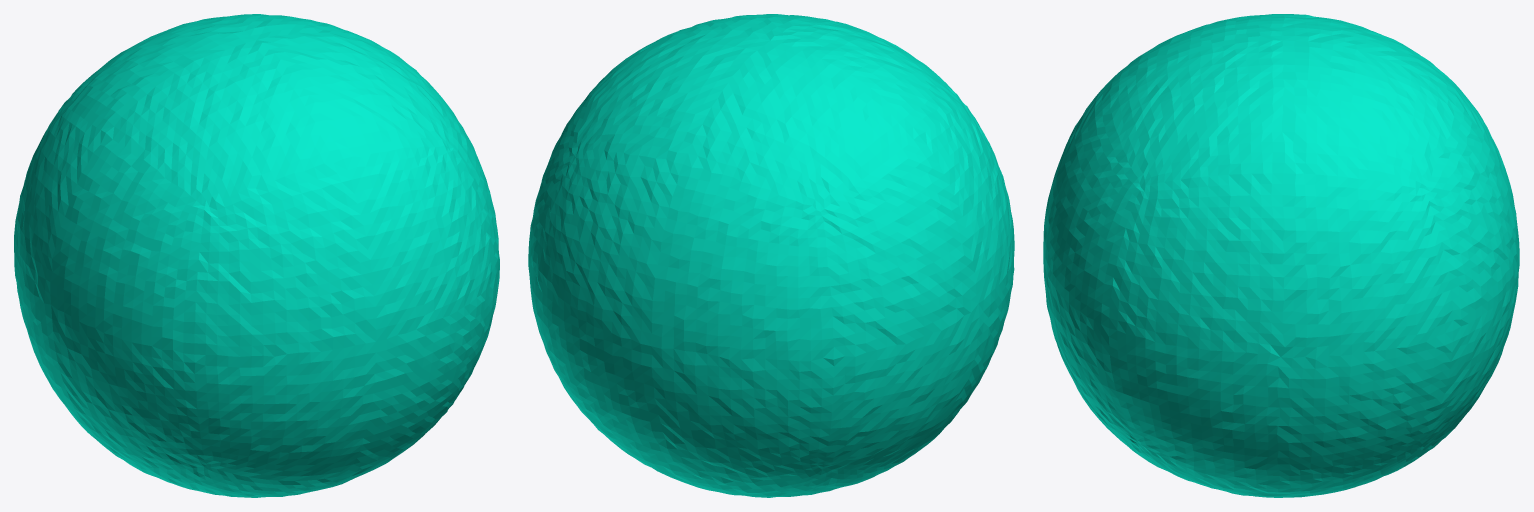
File: Sea04.fbx
3 renders of one model, left to right at view 1: azimuth 30°, elevation 25°; view 2: azimuth 150°, elevation 25°; view 3: azimuth 270°, elevation 25°, orthographic.
Visible parts, largest first — view 1: pCube1; view 2: pCube1; view 3: pCube1.
Boxes of the visible parts, left/top/right/bottom form: pCube1: left=14, top=14, right=499, bottom=497; pCube1: left=528, top=14, right=1014, bottom=497; pCube1: left=1043, top=14, right=1519, bottom=497.
Size of the model in its own units: 40.53 by 40.57 by 40.51.
